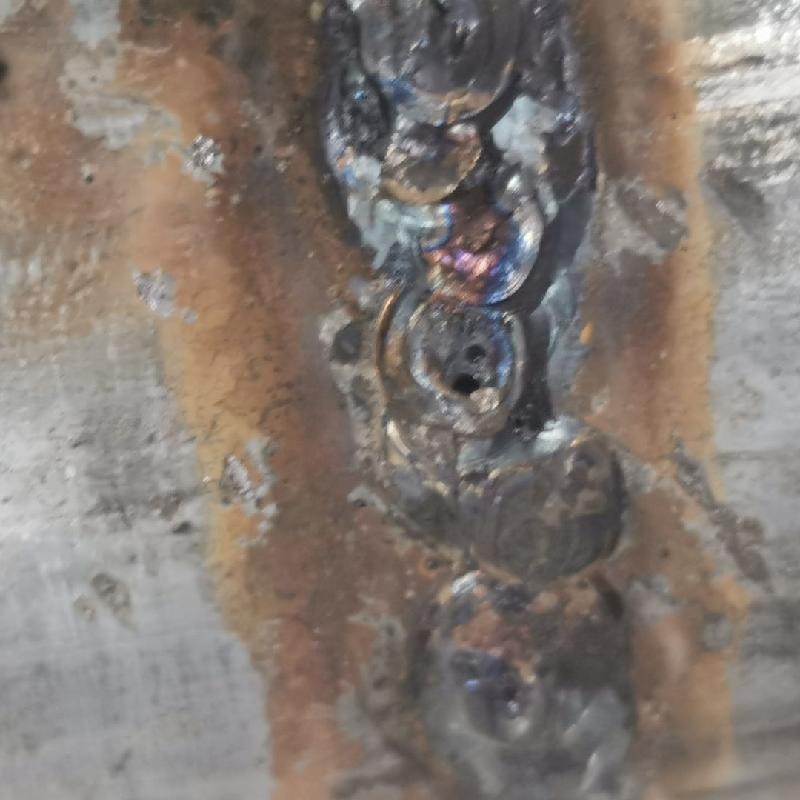Surface_pores: (424, 331, 517, 410)
crater: (316, 4, 571, 427)
